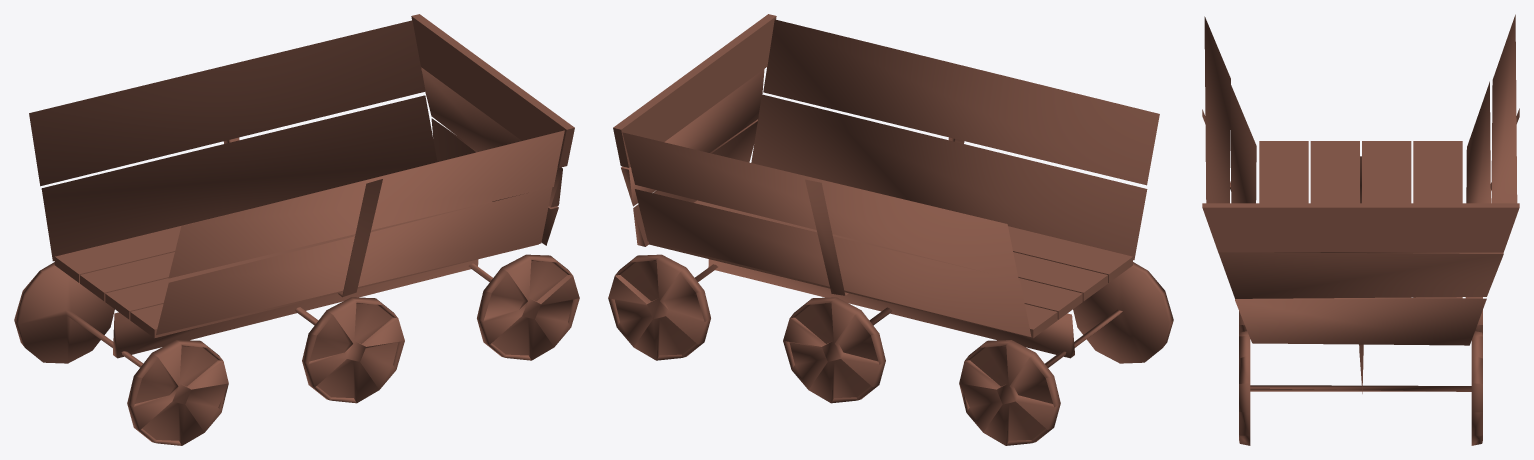
File: ElArabas.fbx
3 views of the same model, side by side, from view 1: azimuth 30°, elevation 25°; view 2: azimuth 150°, elevation 25°; view 3: azimuth 270°, elevation 25° (orthographic). The views are drawn at different scales.
Visible parts, largest first — view 1: Cart; view 2: Cart; view 3: Cart.
Part boxes in pixels (x1=…): Cart: x1=14, y1=14, x2=579, y2=445; Cart: x1=608, y1=14, x2=1173, y2=445; Cart: x1=1202, y1=14, x2=1519, y2=445.
Size of the model in its own units: 628 by 323 by 377.
